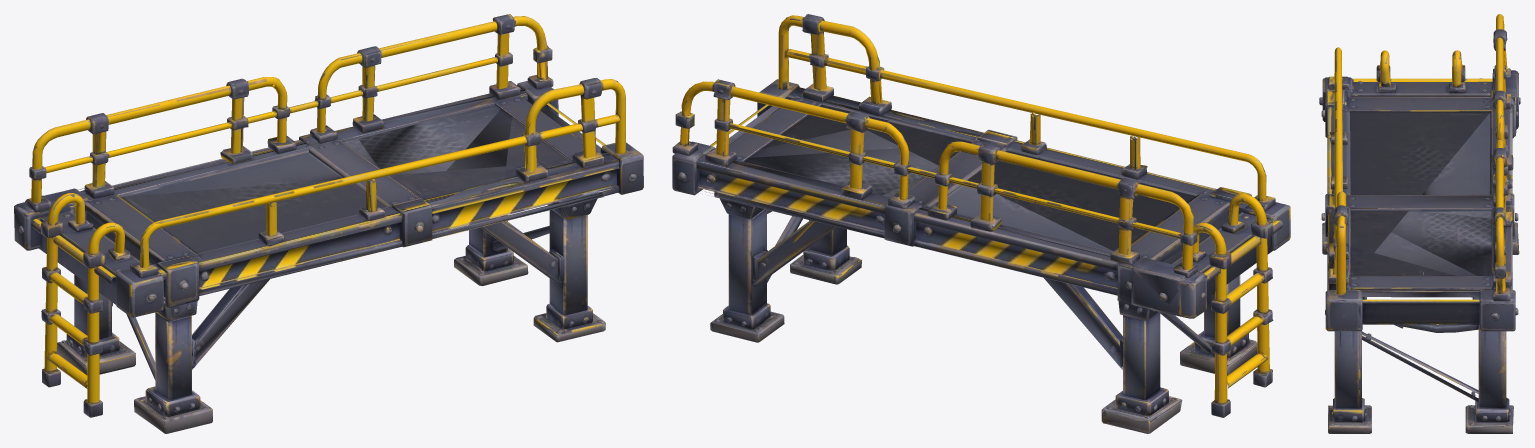
The model's file is steel_catwalk.glb.
The picture shows the model from 3 angles, left to right: view 1: azimuth 30°, elevation 25°; view 2: azimuth 150°, elevation 25°; view 3: azimuth 270°, elevation 25°; orthographic projection. The views are drawn at different scales.
Size of what is drawn, in the model's own units: 2.23 by 1 by 0.8182.
Materials: 1 (1 with a texture image).
